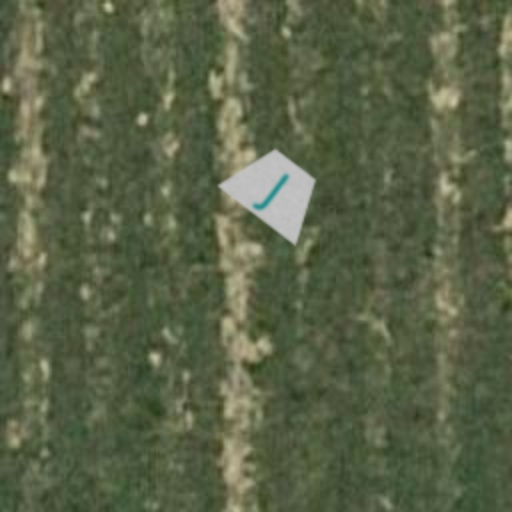trapezoid: (206, 120, 346, 260)
